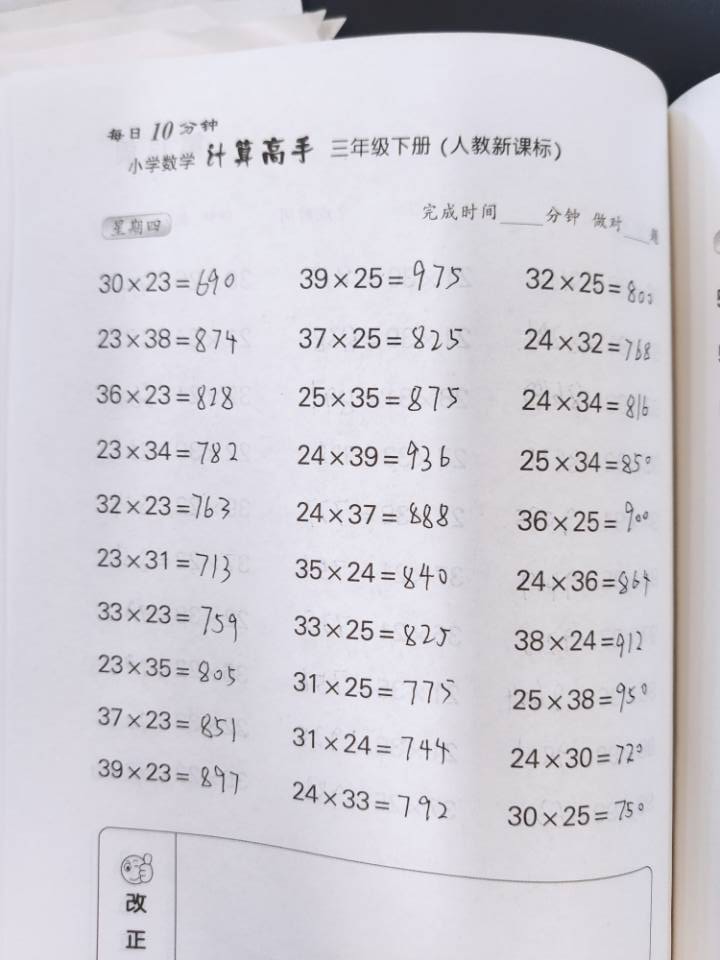equation: (188, 331, 229, 571), (322, 335, 362, 576), (590, 73, 629, 315), (580, 341, 619, 583), (461, 61, 500, 303), (237, 335, 276, 576), (454, 344, 493, 585), (409, 343, 448, 584), (364, 340, 403, 581), (282, 336, 321, 577), (538, 348, 577, 589), (495, 339, 534, 580), (505, 56, 544, 297), (548, 63, 587, 304), (371, 56, 410, 297), (416, 56, 455, 297), (280, 47, 319, 288), (233, 44, 272, 285), (194, 55, 232, 296), (326, 52, 364, 293), (323, 633, 364, 847), (236, 633, 277, 847), (398, 629, 439, 843), (560, 629, 601, 843), (524, 629, 565, 843), (442, 635, 483, 848), (190, 625, 230, 839), (360, 629, 400, 843), (283, 635, 323, 848), (481, 632, 521, 845)
